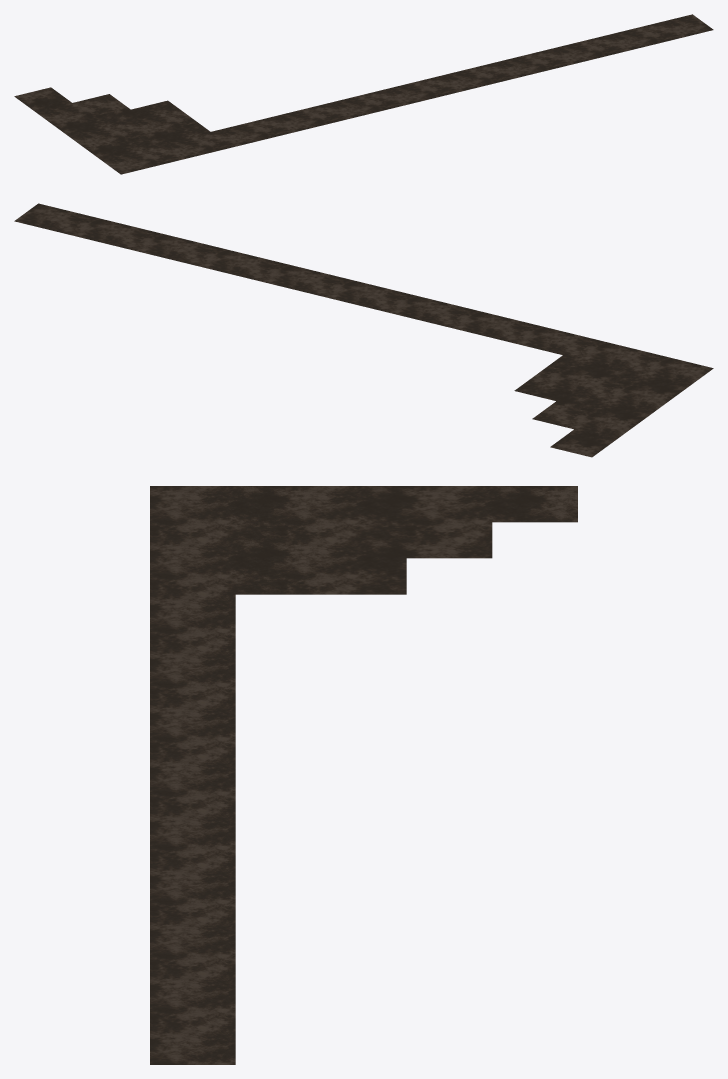
The model's file is floor_-3_-3.glb.
3 renders of one model, top to bottom at view 1: azimuth 30°, elevation 25°; view 2: azimuth 150°, elevation 25°; view 3: azimuth 270°, elevation 25°, orthographic. The views are drawn at different scales.
Parts seen in each view (by area): view 1: floor_-3_-3; view 2: floor_-3_-3; view 3: floor_-3_-3.
Boxes of the visible parts, <box> form: floor_-3_-3: <box>14,14,713,174</box>; floor_-3_-3: <box>14,203,713,457</box>; floor_-3_-3: <box>150,486,577,1064</box>.
Size of the model in its own units: 64 by 0 by 20.
Materials: 1 (1 with a texture image).
